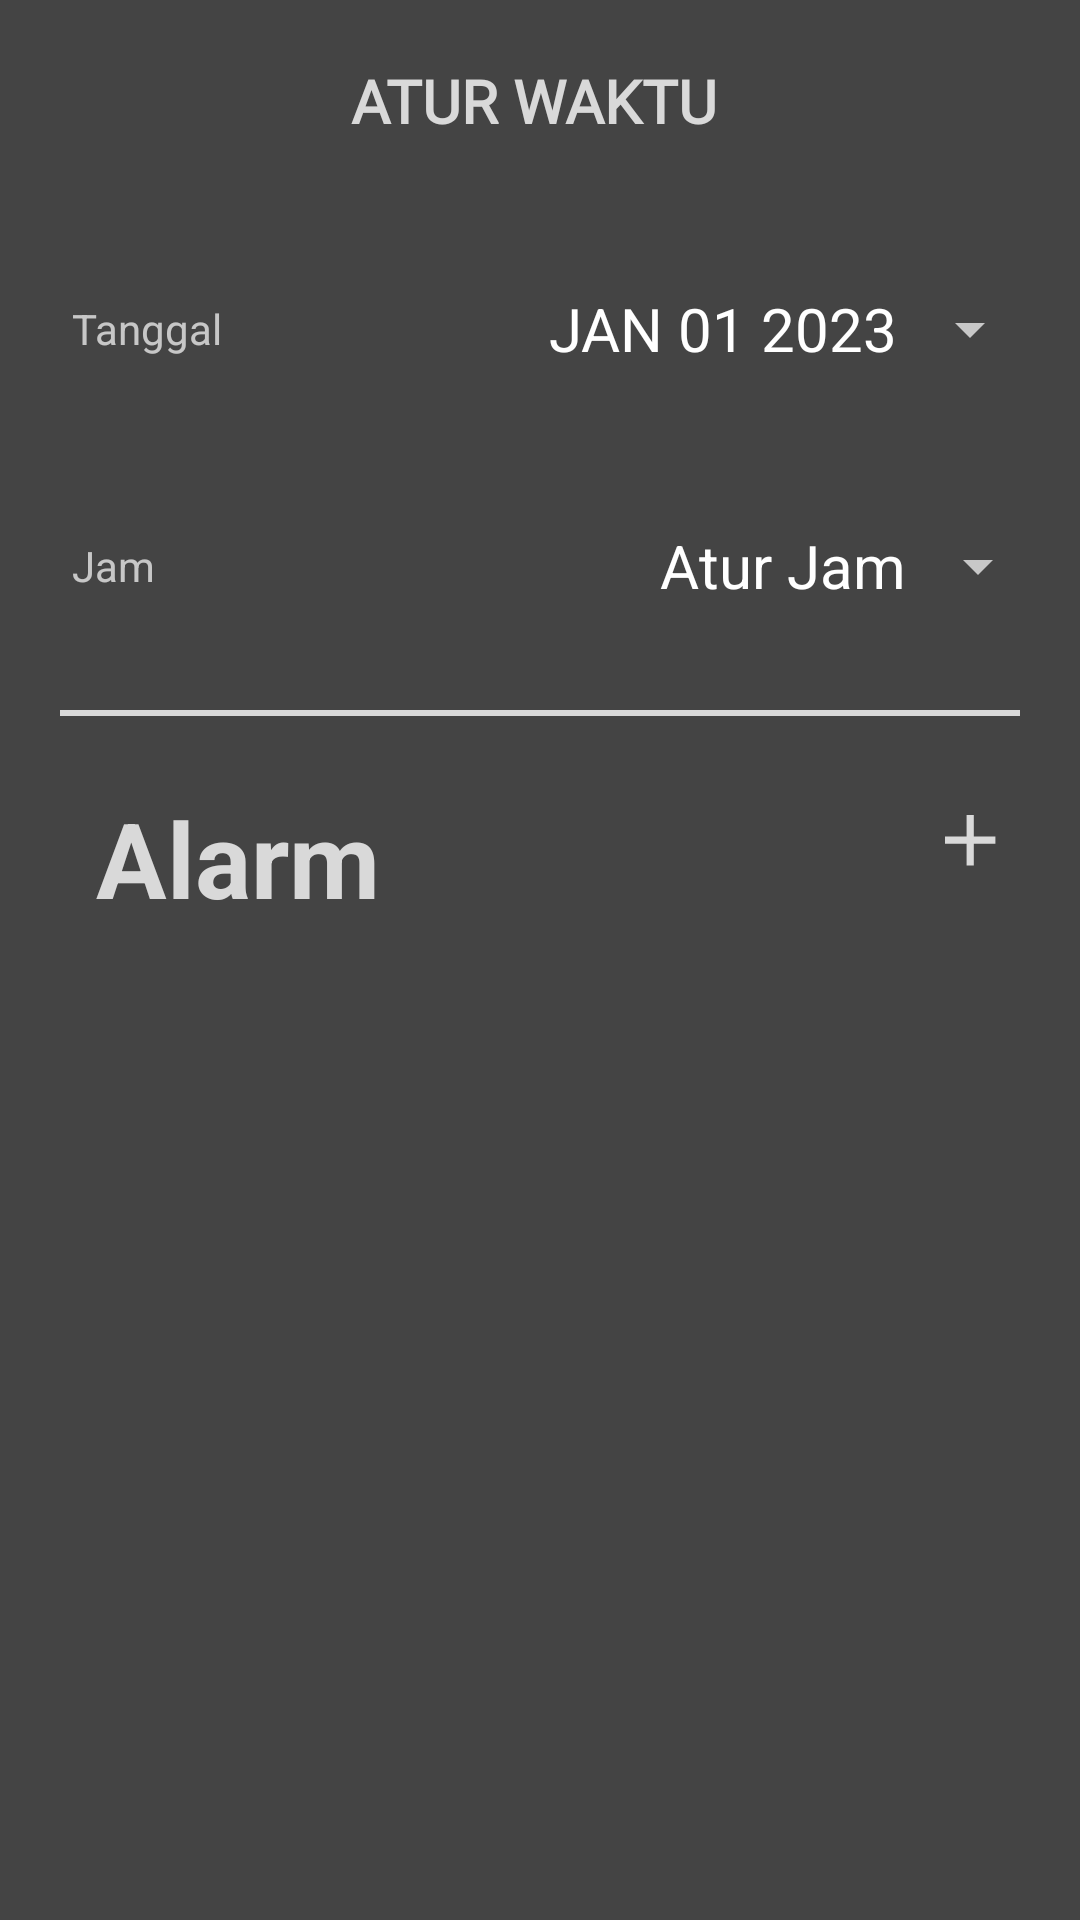

Locate icon controls on the screen. Image size 1080×1920, boxes as region(x1, y1, x2, y2).
add: region(945, 815, 996, 866)
